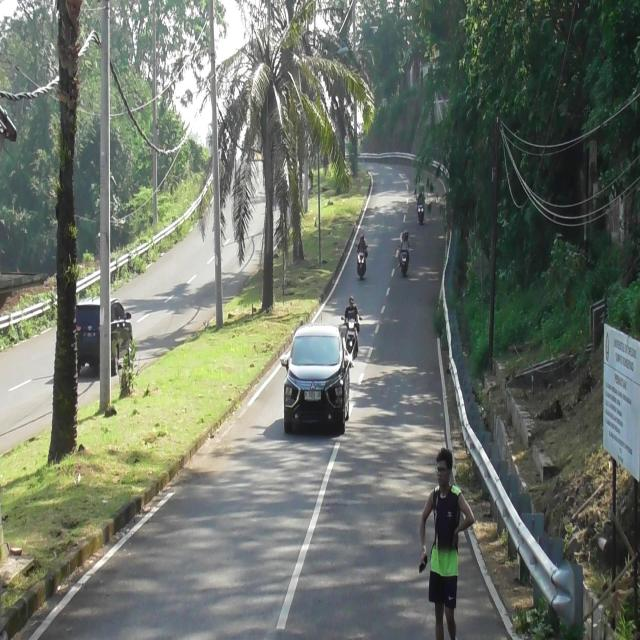motorcycle: (343, 316, 361, 358), (398, 245, 409, 278), (357, 248, 367, 282), (416, 202, 426, 225)
person: (342, 296, 360, 326), (356, 230, 368, 258), (417, 186, 425, 207), (400, 234, 408, 254), (404, 230, 410, 249)
rider_region: (342, 293, 360, 357), (352, 228, 369, 283), (396, 230, 411, 278), (415, 186, 427, 228)
